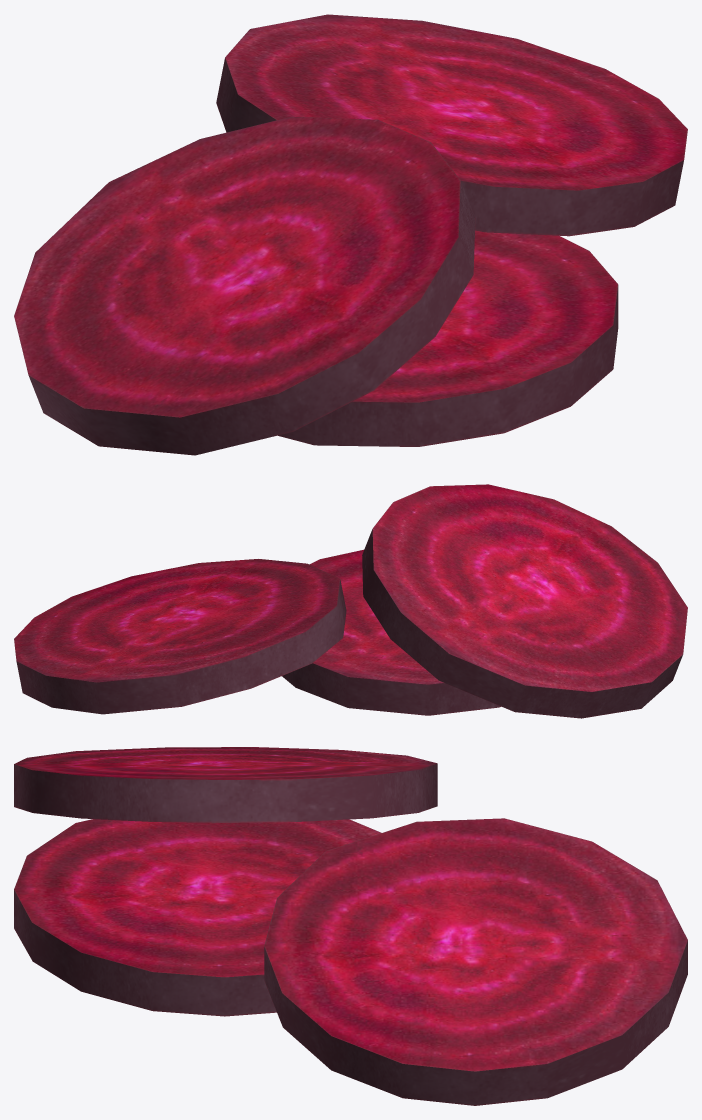
The model's file is Bitroot.glb.
3 renders of one model, top to bottom at view 1: azimuth 30°, elevation 25°; view 2: azimuth 150°, elevation 25°; view 3: azimuth 270°, elevation 25°, orthographic. The views are drawn at different scales.
Visible parts, largest first — view 1: pCylinder4; view 2: pCylinder4; view 3: pCylinder4.
Part boxes in pixels (bbox=[...]): pCylinder4: bbox=[14, 14, 687, 455]; pCylinder4: bbox=[14, 484, 687, 718]; pCylinder4: bbox=[14, 747, 687, 1105].
Bounding box in the file's own units: 0.0987 × 0.0243 × 0.0867.
Materials: 1 (1 with a texture image).
